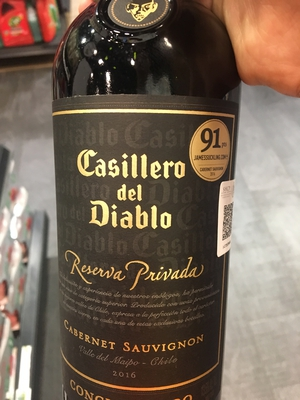casillero del diablo reserva privada cabernet sauvignon: (47, 14, 245, 400)
